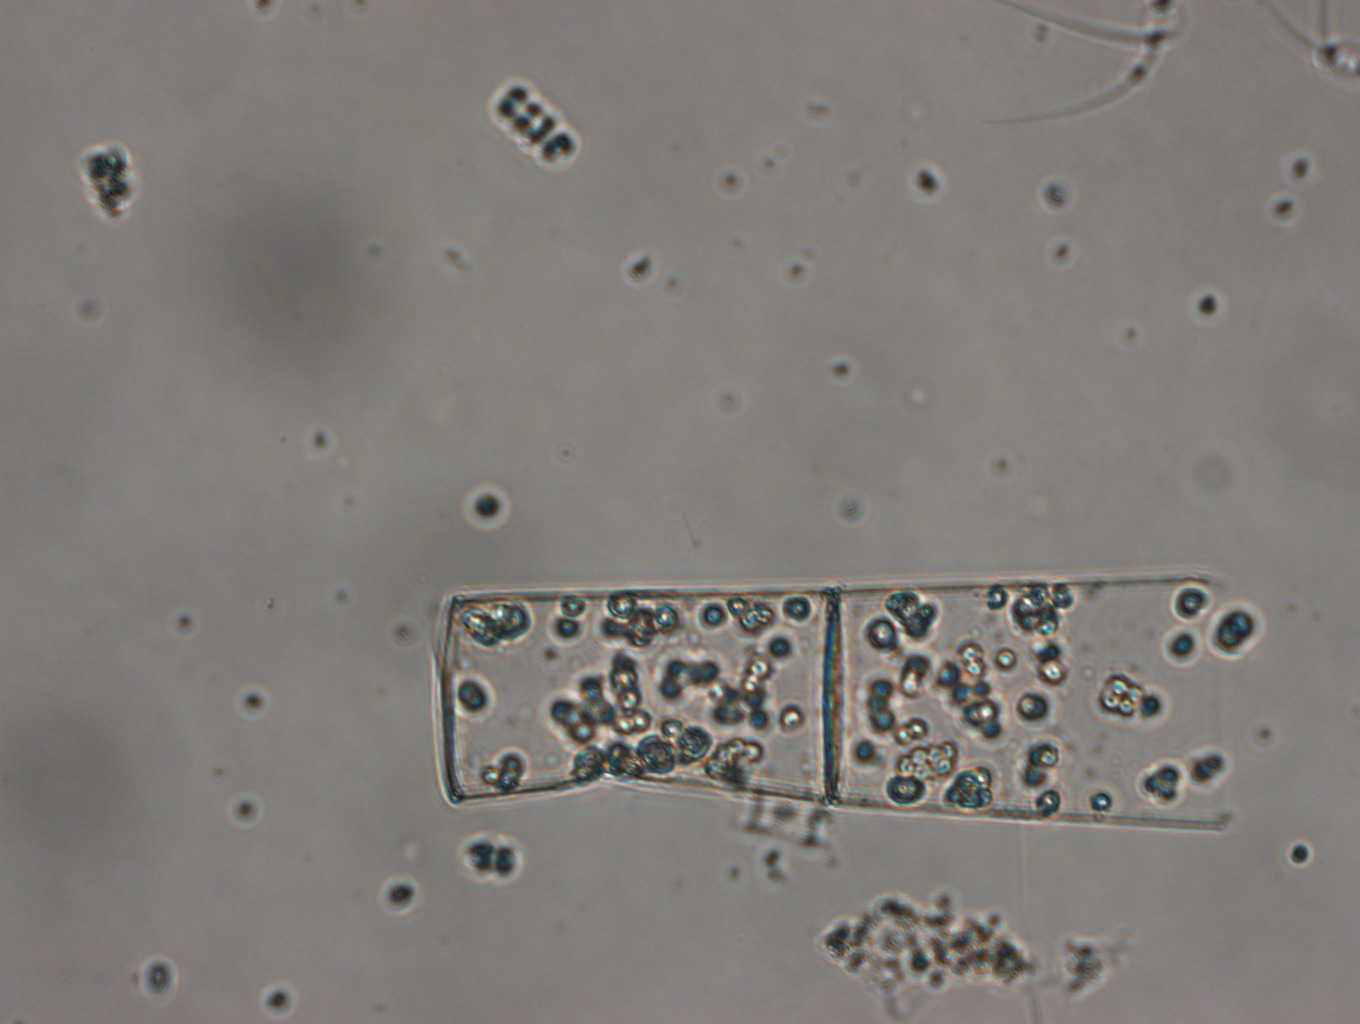guinardia flaccida: (433, 567, 1242, 833)
